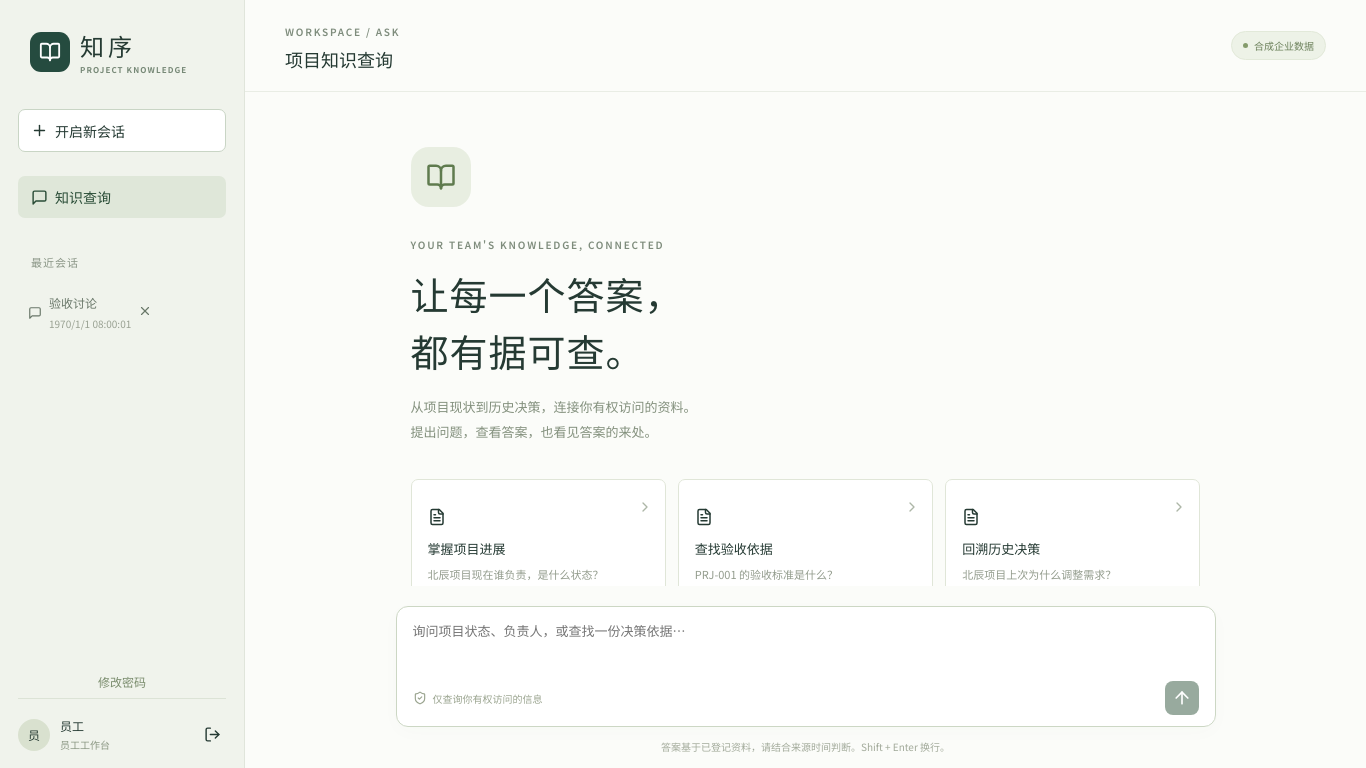
Scenario: 知识更新后的可读历史仍显示
Click the button "验收讨论 1970/1/1 08:00:01". click: (122, 312)
box: 18,282 -> 226,343
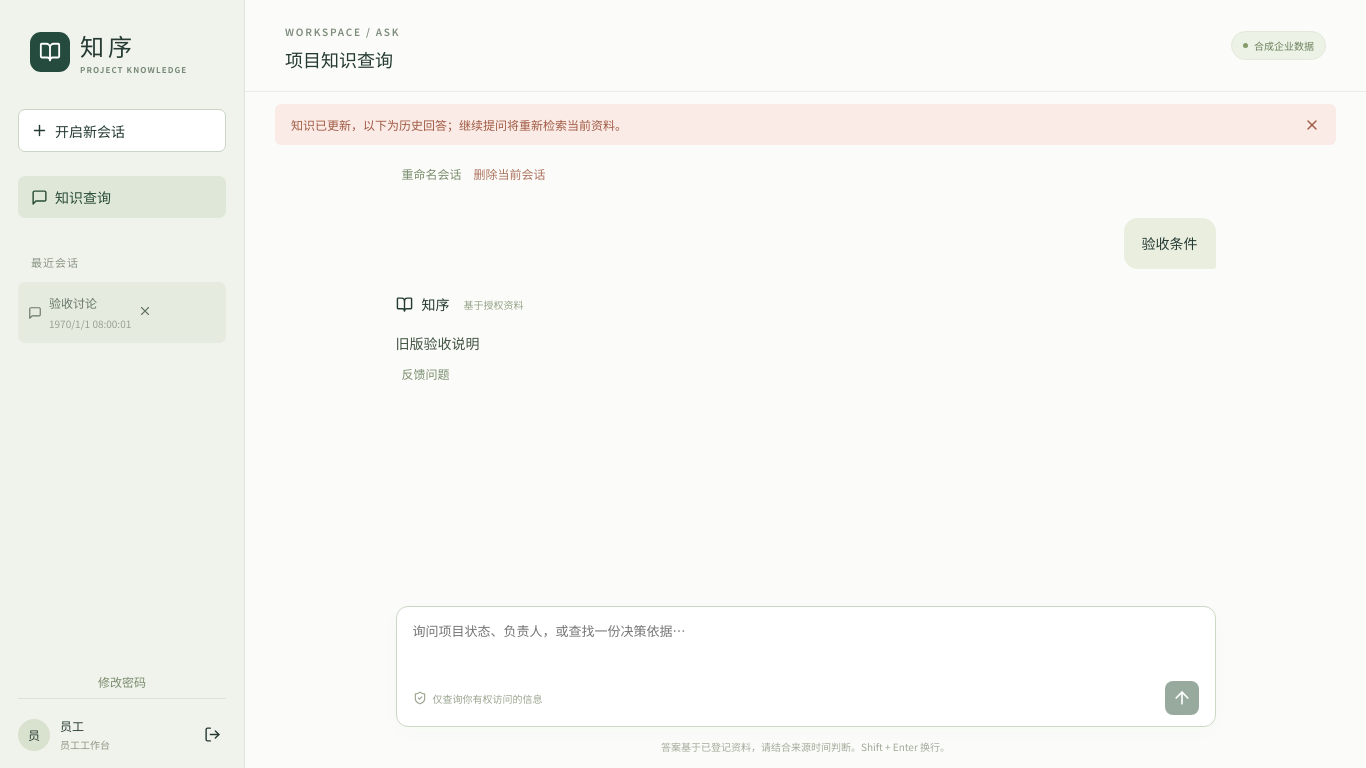
expect the text "旧版验收说明" is shown: met, box 396,333 -> 480,353
